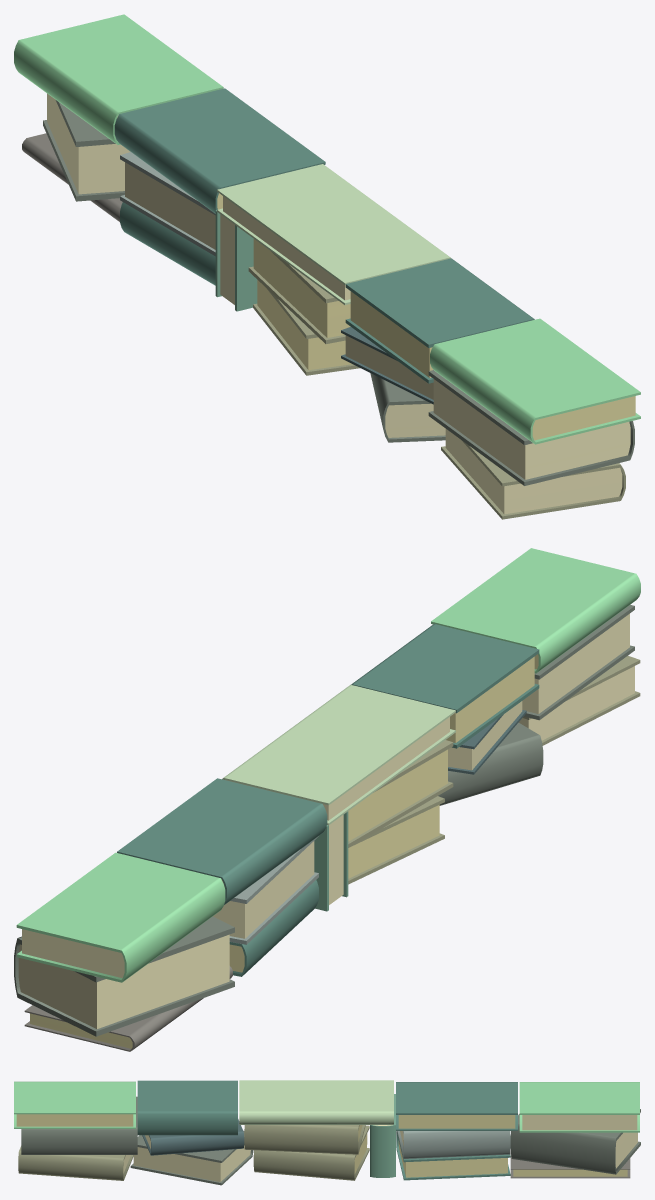
The model's file is 01_Start-left.fbx.
3 renders of one model, top to bottom at view 1: azimuth 30°, elevation 25°; view 2: azimuth 150°, elevation 25°; view 3: azimuth 270°, elevation 25°, orthographic. The views are drawn at different scales.
Visible parts, largest first — view 1: Szene_START_left; view 2: Szene_START_left; view 3: Szene_START_left.
Boxes of the visible parts, box(x1,y1,x2,y2) form: Szene_START_left: box(14, 14, 640, 519); Szene_START_left: box(14, 548, 640, 1051); Szene_START_left: box(14, 1080, 640, 1185).
Bounding box in the file's own units: 9.38 × 6.06 × 52.63.
